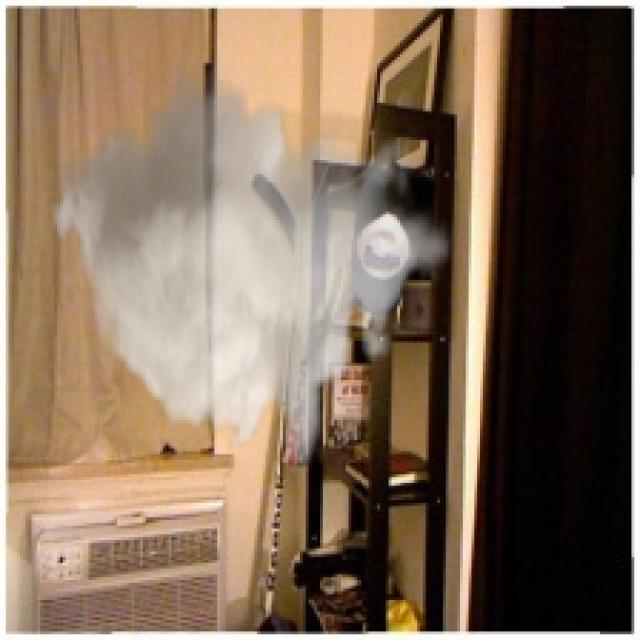Smoke: (48, 60, 454, 477)
